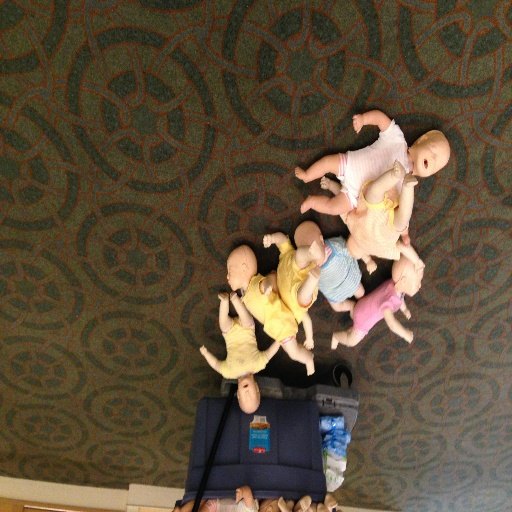hand: (349, 109, 364, 135), (365, 258, 378, 273), (414, 257, 425, 274), (403, 327, 413, 343), (302, 337, 314, 350), (320, 175, 331, 189), (262, 232, 272, 247), (234, 487, 243, 503), (262, 283, 272, 297), (400, 233, 410, 247), (401, 307, 411, 318), (198, 343, 207, 354)
